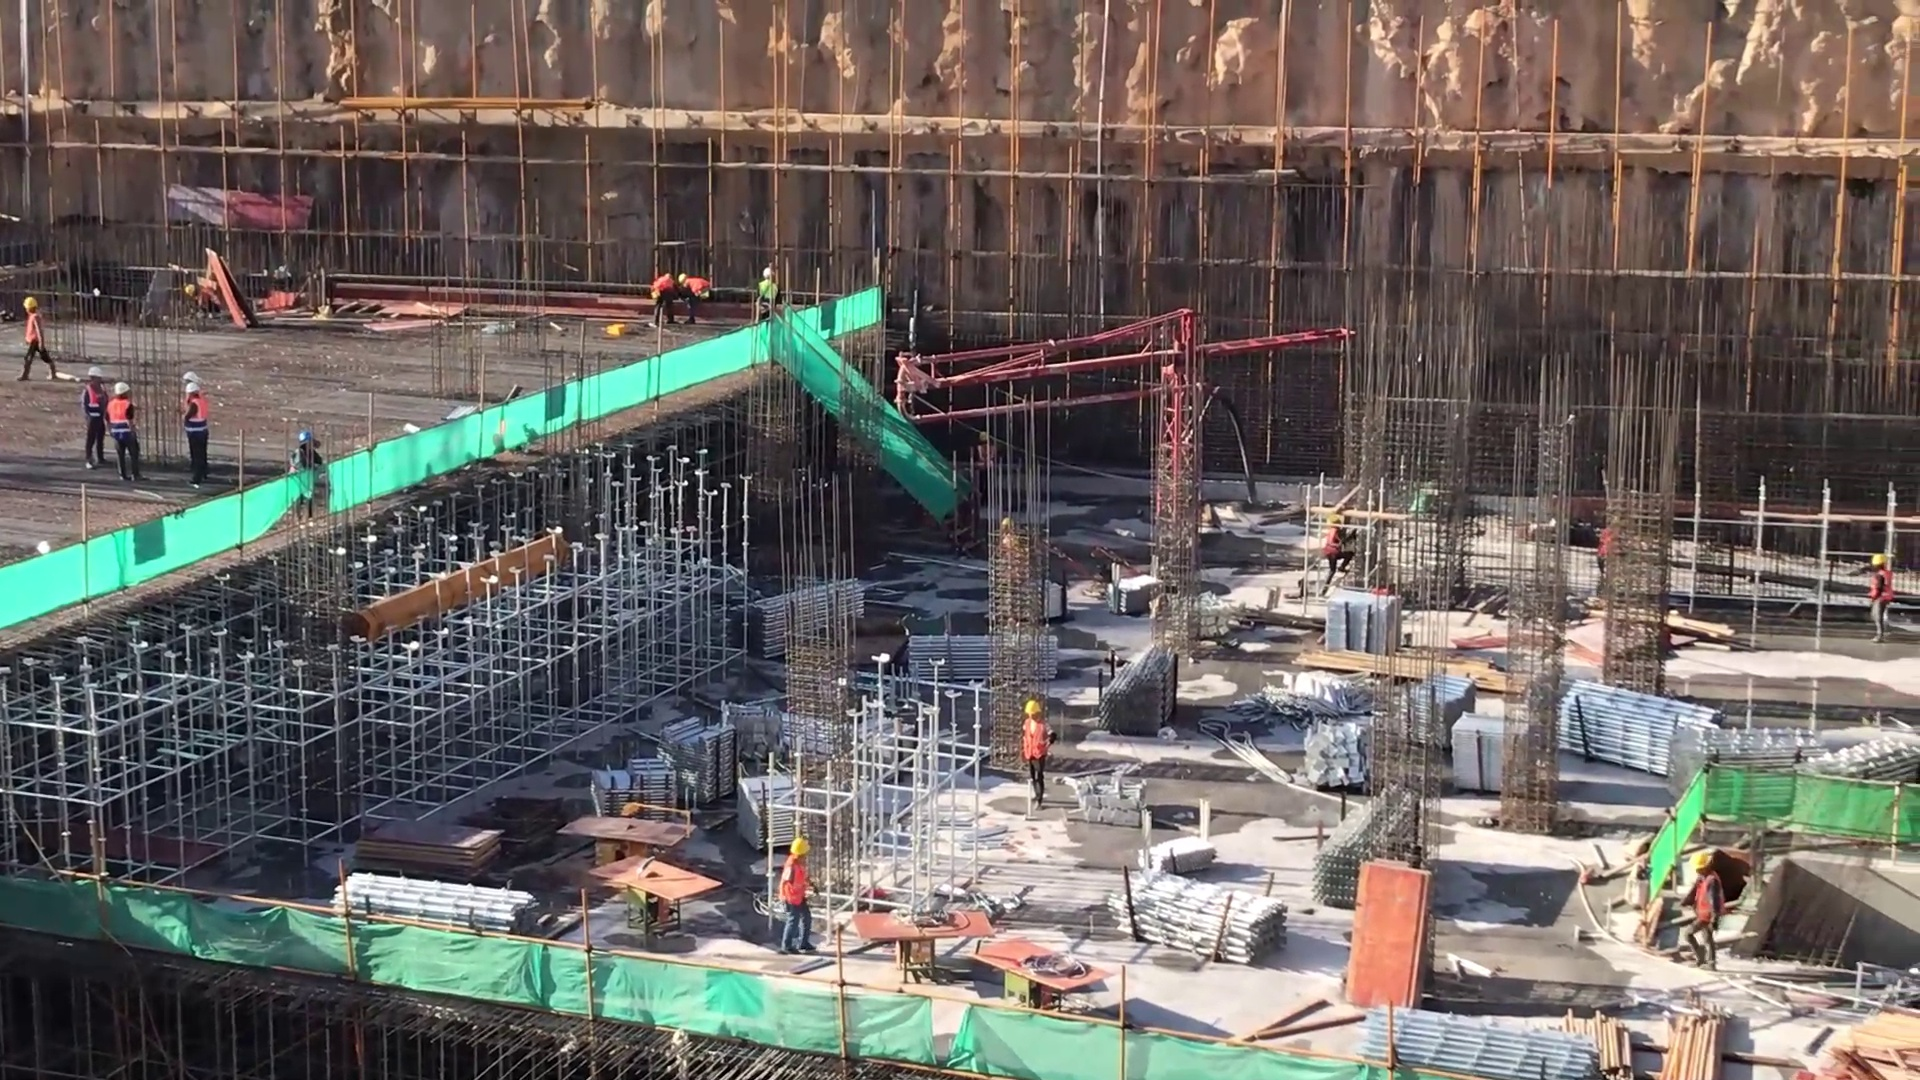board: (1342, 853, 1435, 1011), (345, 824, 510, 875)
cutter: (970, 932, 1112, 1037), (848, 899, 993, 998), (593, 848, 729, 953), (551, 817, 704, 877)
helmet: (785, 835, 817, 859), (1687, 852, 1714, 872), (1870, 550, 1894, 568), (1022, 701, 1051, 716), (298, 431, 319, 448), (19, 297, 41, 312), (87, 364, 107, 381), (1321, 513, 1346, 526), (114, 382, 131, 399), (185, 384, 201, 401), (182, 371, 203, 380), (764, 266, 778, 280), (978, 428, 992, 443), (677, 271, 692, 281)
person: (1682, 850, 1728, 973), (783, 838, 822, 962), (106, 382, 145, 483), (1019, 701, 1056, 808), (17, 298, 59, 383), (1319, 508, 1355, 599), (179, 384, 212, 484), (1865, 552, 1896, 650), (290, 433, 322, 526), (83, 363, 110, 469), (972, 431, 998, 501), (678, 273, 715, 322), (653, 269, 677, 332), (761, 269, 782, 327)
scaffold: (1679, 722, 1920, 822), (1349, 1001, 1611, 1080), (1116, 861, 1284, 965), (590, 714, 747, 823), (1299, 780, 1427, 914), (326, 881, 534, 946), (731, 574, 859, 669), (1563, 676, 1675, 776), (1089, 642, 1182, 742), (902, 632, 1062, 686), (737, 770, 824, 855), (1392, 675, 1484, 751)
vest: (780, 852, 816, 915), (1690, 870, 1730, 924), (1022, 716, 1054, 767), (108, 399, 138, 445), (1869, 568, 1894, 613), (183, 398, 211, 434), (84, 381, 109, 420), (685, 276, 712, 302), (1324, 526, 1346, 557), (761, 279, 783, 306)
